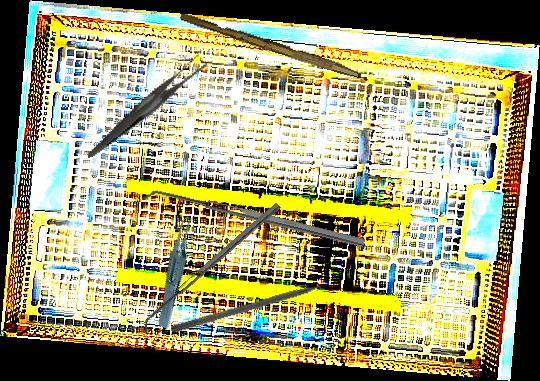Dressing Forceps: (67, 52, 224, 159)
Pusher: (170, 276, 344, 336)
Scalpel Handle: (178, 11, 364, 80)
Spatula Surgical: (136, 202, 286, 335), (141, 184, 366, 256)
Tissue Forceps: (135, 211, 221, 330)
